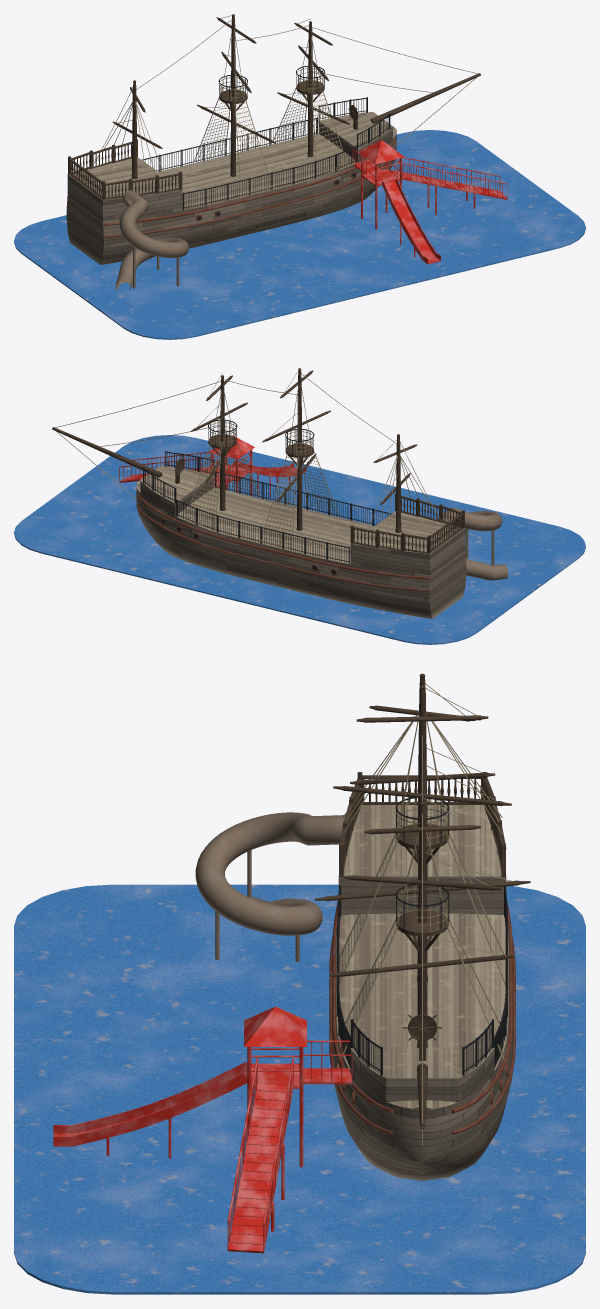
Rendered from IndianOak_Ship.gltf.
3 views of the same model, one above another, from view 1: azimuth 30°, elevation 25°; view 2: azimuth 150°, elevation 25°; view 3: azimuth 270°, elevation 25° (orthographic). The views are drawn at different scales.
Parts seen in each view (by area): view 1: IndianOak_Ship; view 2: IndianOak_Ship; view 3: IndianOak_Ship.
Part boxes in pixels (<box>): IndianOak_Ship: <box>14,14,585,339</box>; IndianOak_Ship: <box>14,368,585,644</box>; IndianOak_Ship: <box>14,673,585,1294</box>.
Size of the model in its own units: 29.5 by 13.66 by 17.5.
11 materials, 11 textured.
